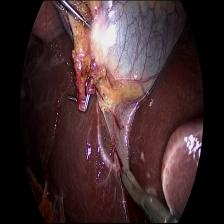Grasper: (54, 0, 95, 39)
Scissors: (118, 166, 171, 221)
